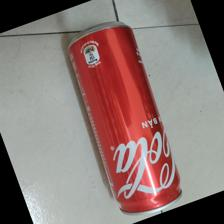Coca: (65, 19, 184, 217)
